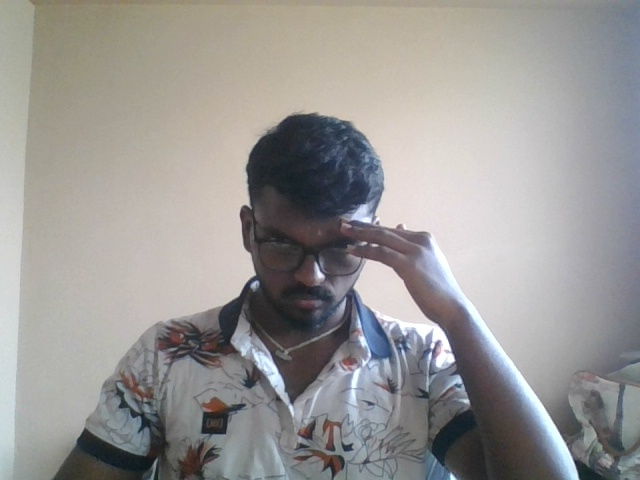Hello: (315, 193, 485, 361)
